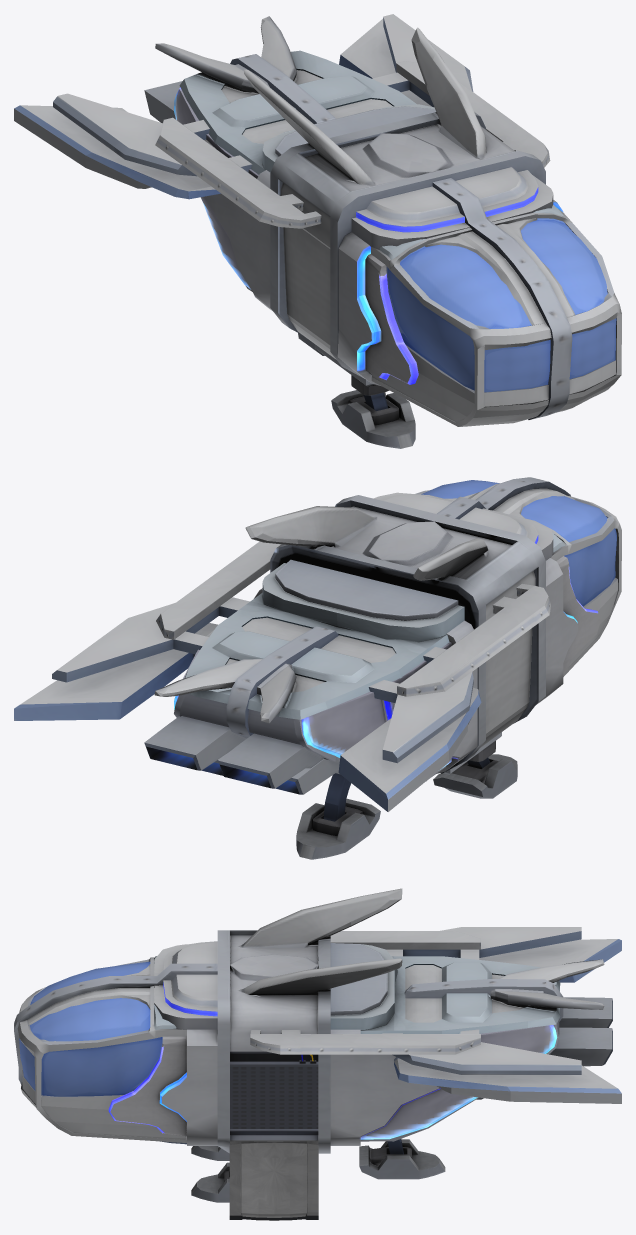
The model's file is spaceship1.glb.
The picture shows the model from 3 angles, top to bottom: view 1: azimuth 30°, elevation 25°; view 2: azimuth 150°, elevation 25°; view 3: azimuth 270°, elevation 25°; orthographic projection. The views are drawn at different scales.
Parts seen in each view (by area): view 1: Object_4, Object_5, Object_6; view 2: Object_4, Object_5, Object_6; view 3: Object_4, Object_5, Object_6.
Boxes of the visible parts, x1,y1,x2,y2 form: Object_4: [53, 14, 621, 448]; Object_5: [14, 16, 616, 436]; Object_6: [386, 218, 616, 392]; Object_4: [52, 477, 621, 859]; Object_5: [14, 482, 618, 847]; Object_6: [421, 480, 616, 606]; Object_4: [14, 888, 611, 1214]; Object_5: [14, 888, 621, 1220]; Object_6: [19, 961, 162, 1096].
Bounding box in the file's own units: 17.55 × 13.23 × 29.43.
3 materials, 2 textured.
